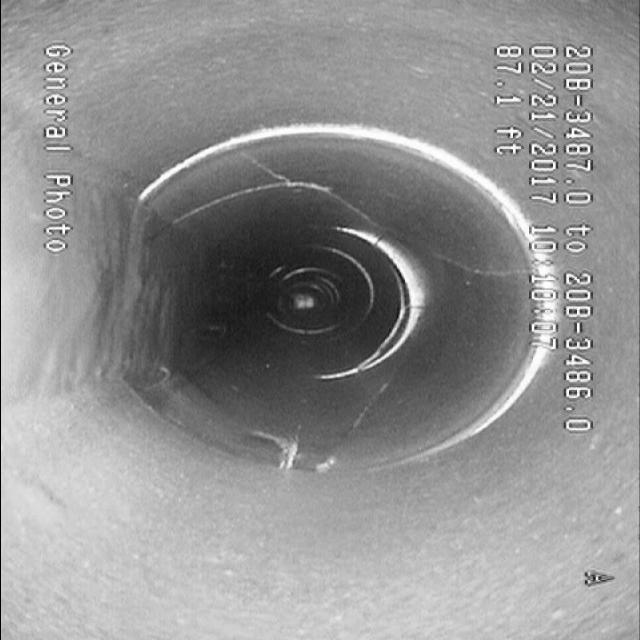Crack: (176, 145, 356, 229)
